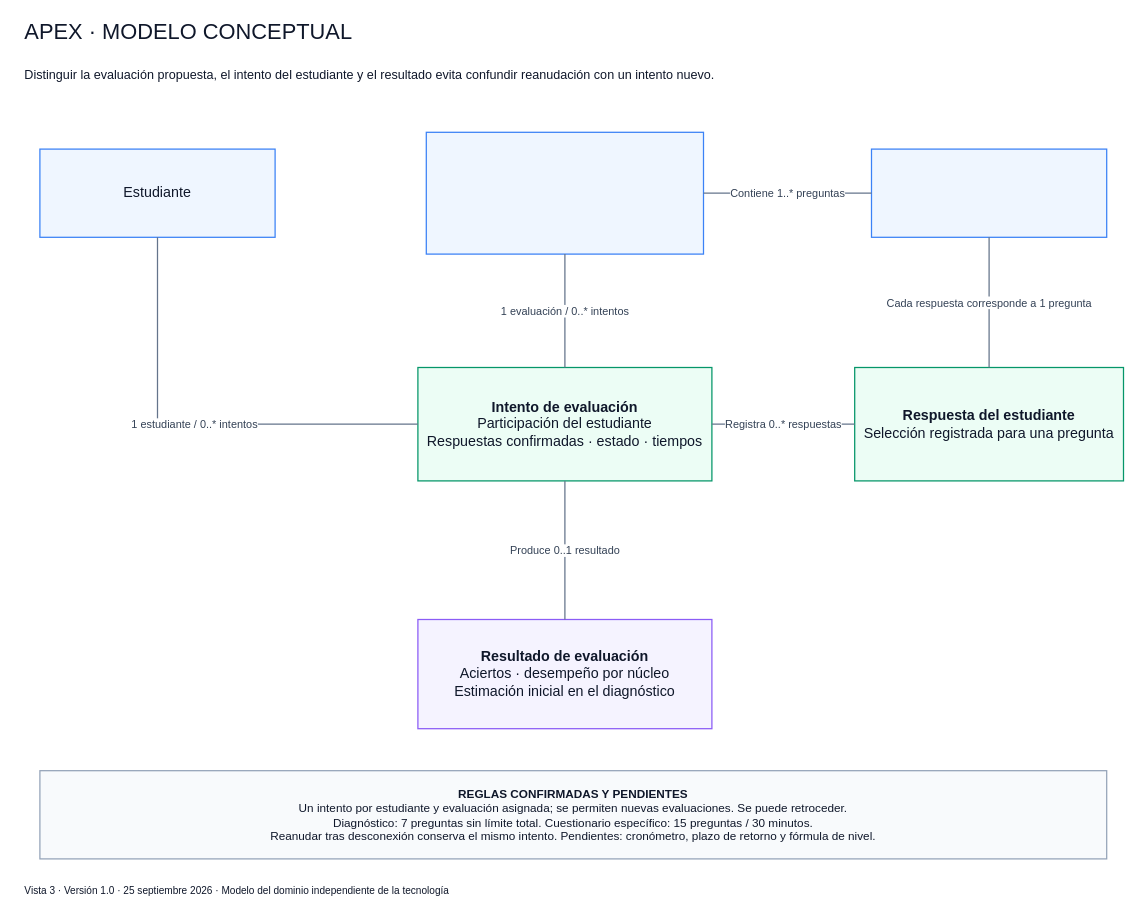
Image size: 1138x916. Some labels were removed from this diagram. The shapes that lost their labels are listed below. From the top down, each one's centre as x and y in pixels, then its label:
At point (564, 192): "Evaluación Diagnóstico inicial Cuestionario de componente Simulacro general".
At point (988, 193): "Pregunta".
